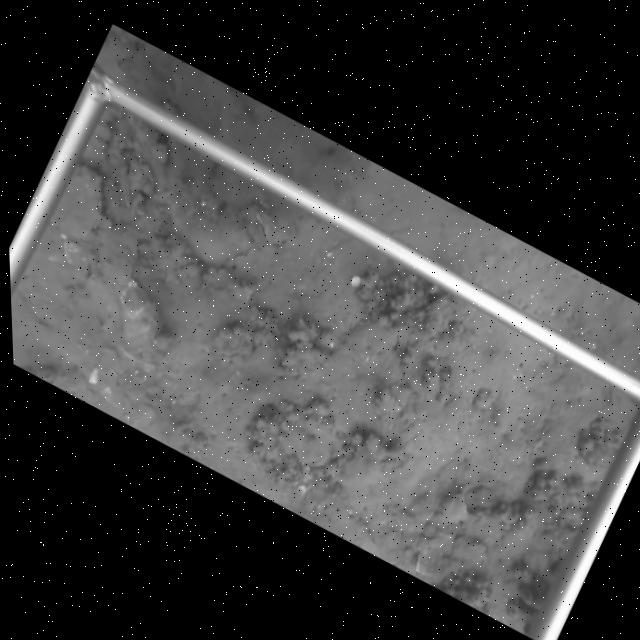Oyster-Closed: (113, 283, 167, 357), (423, 493, 469, 535), (247, 204, 287, 248)
Oyster-Indeterminate: (248, 403, 356, 479), (49, 161, 113, 242), (96, 216, 142, 300)
